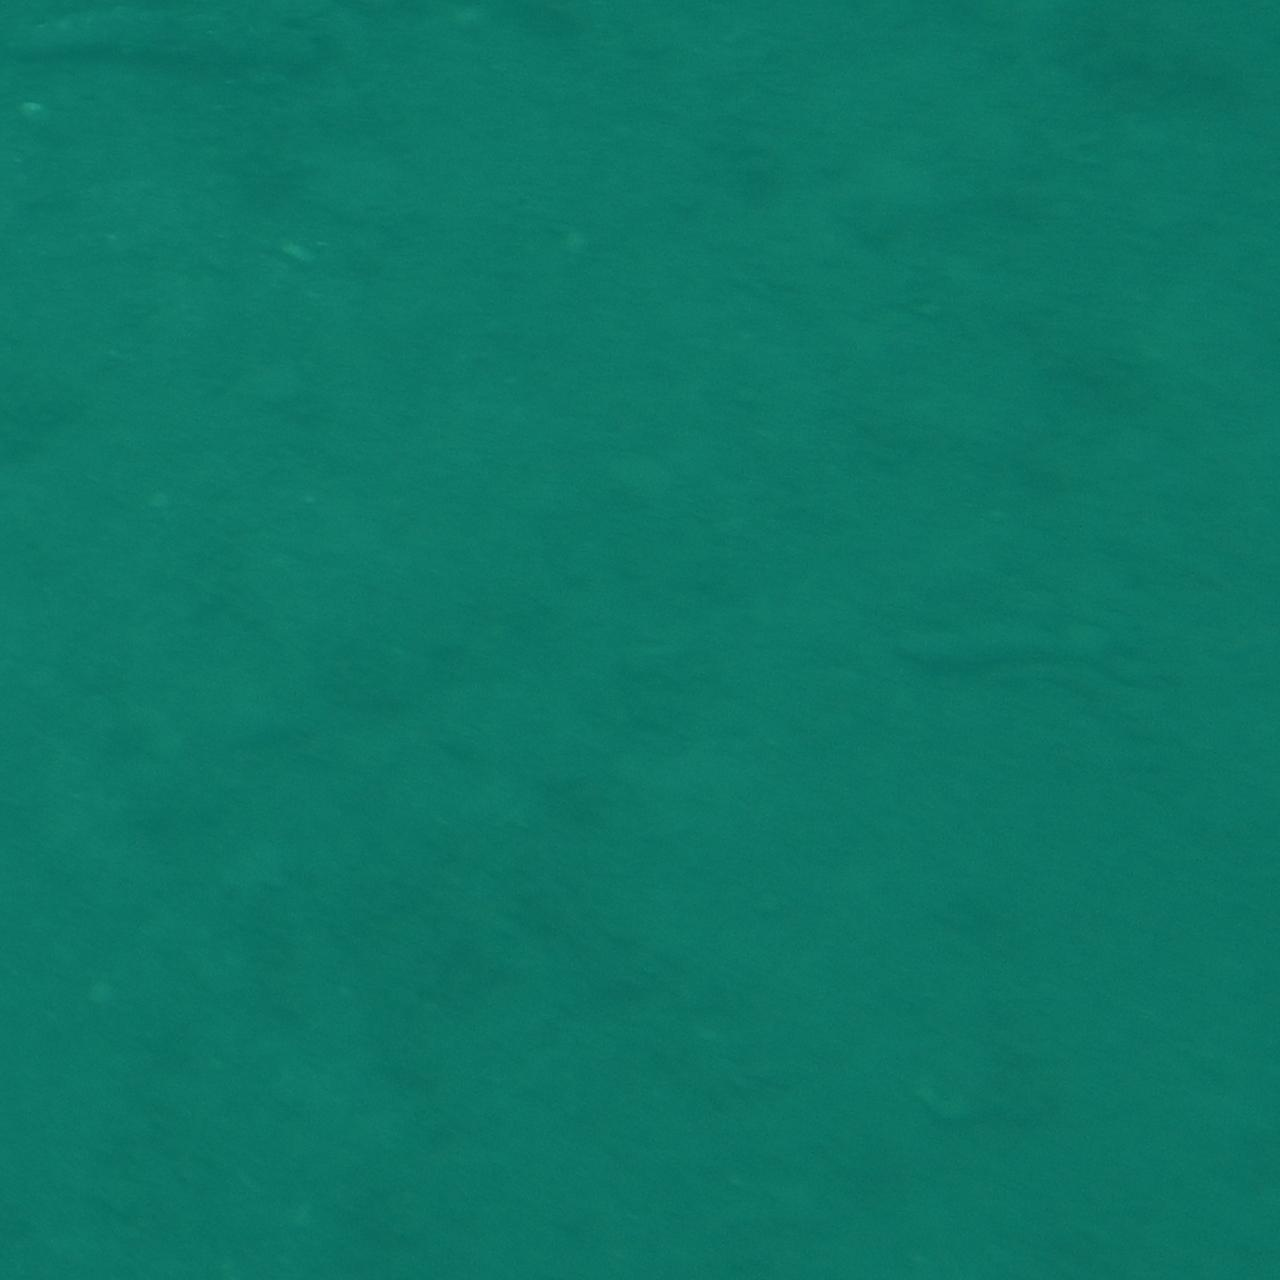Holothuria tubulosa: (883, 598, 1175, 682)
